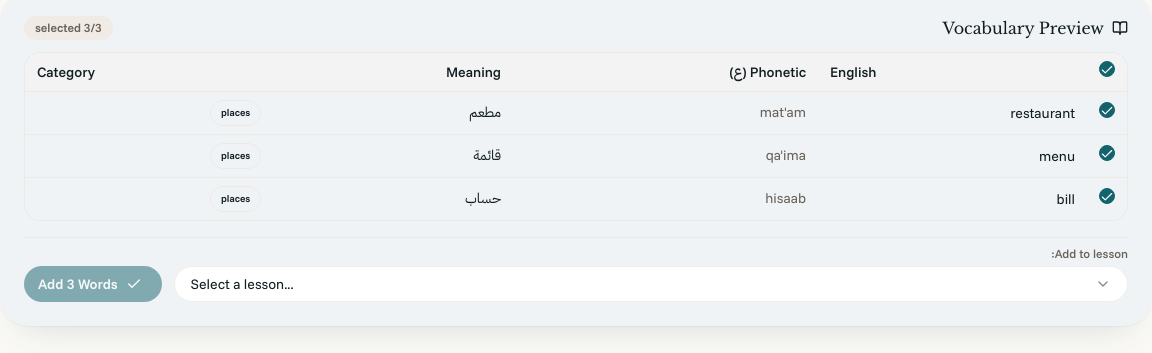
Test case: choosing what to keep › clears everything at once
Click the checkbox in the row of "English" at {"x": 1107, "y": 69}, box [1099, 61, 1115, 77]
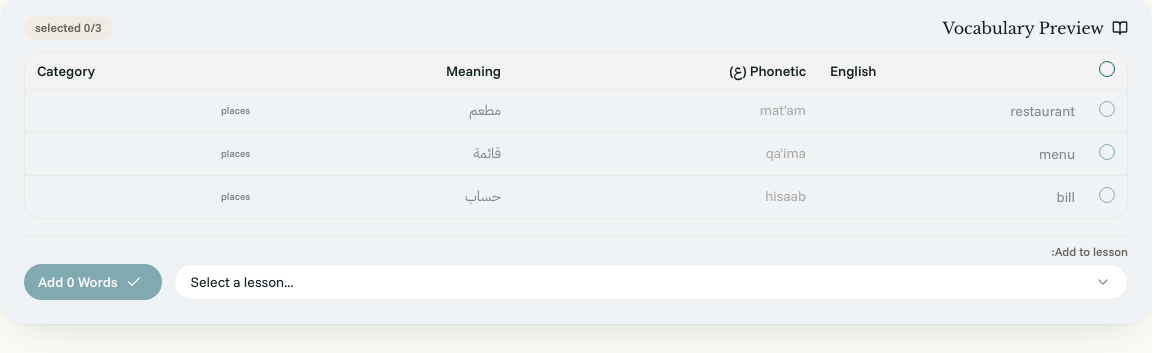
Expected: the text "0/3 selected" is shown, [24, 16, 113, 40]
